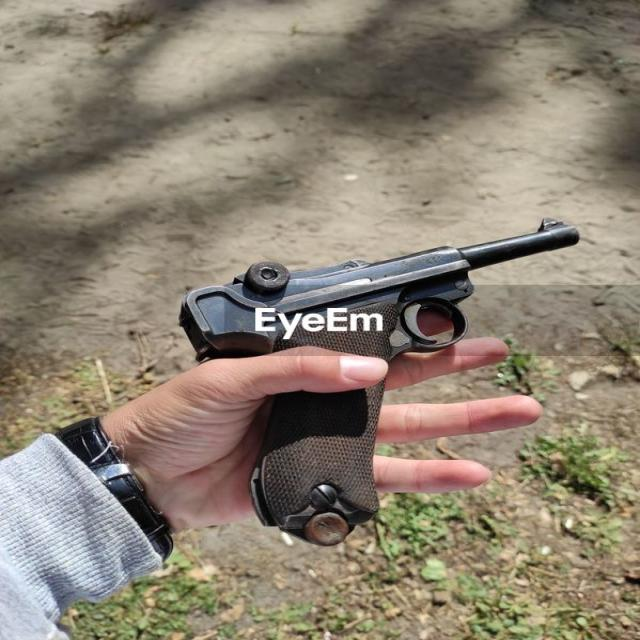HandGun: (177, 218, 579, 538)
